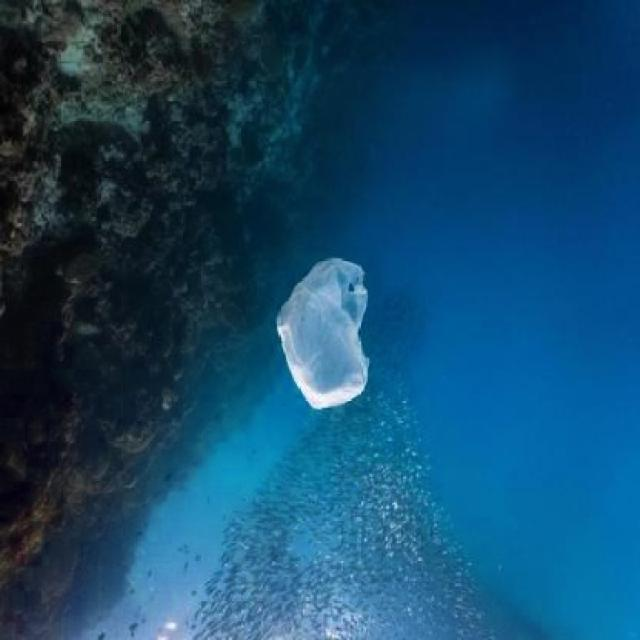pbag: (275, 256, 371, 412)
